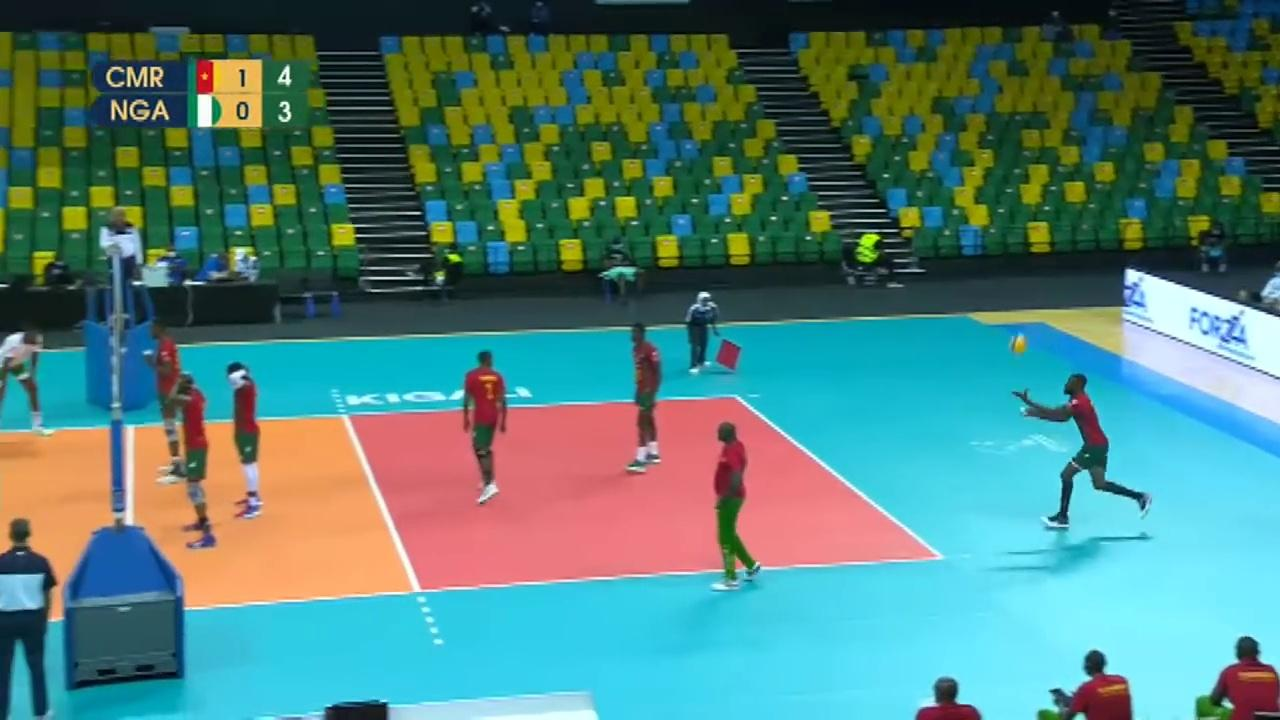player: (1011, 371, 1153, 531), (174, 369, 222, 548), (139, 315, 188, 489), (0, 310, 59, 441), (461, 351, 510, 499), (228, 364, 268, 520), (629, 324, 661, 467)
refree: (0, 523, 60, 720), (101, 198, 141, 325), (686, 290, 727, 374)
